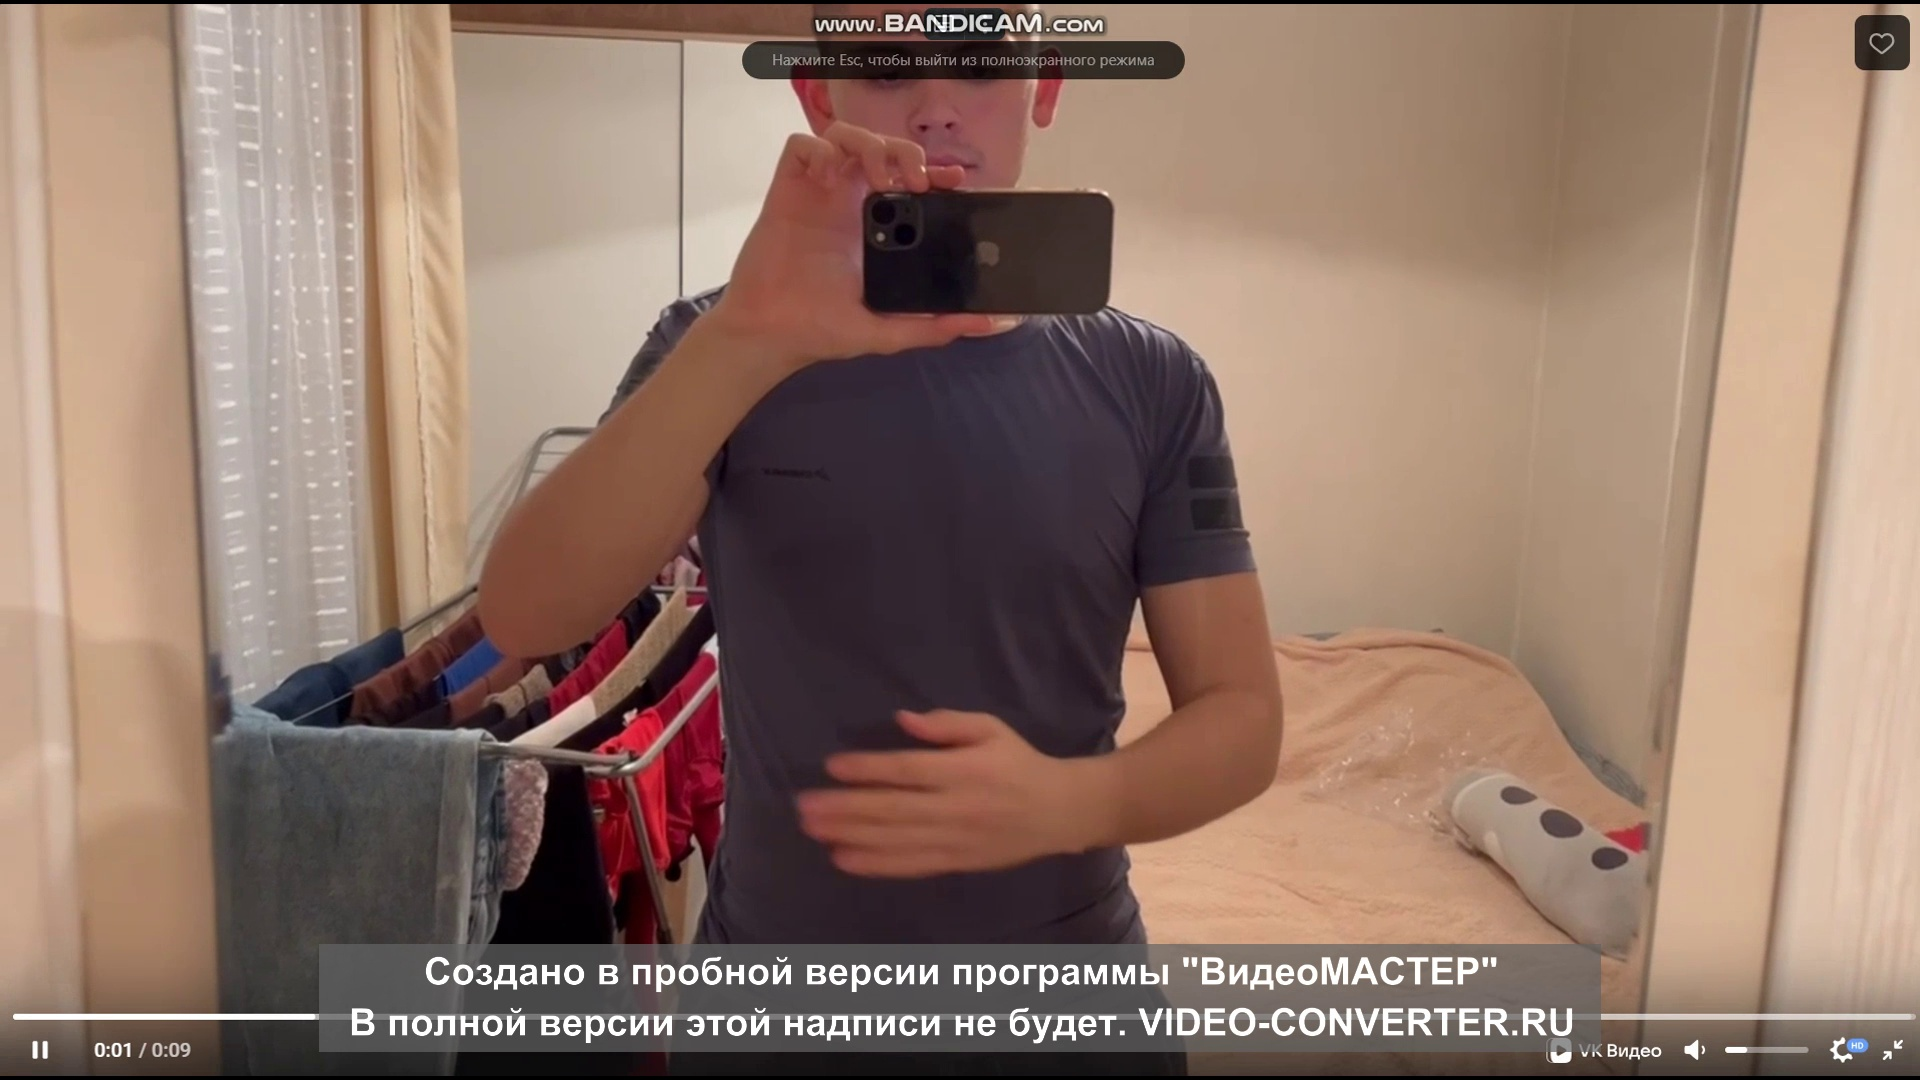Кисть: (795, 704, 1056, 884)
